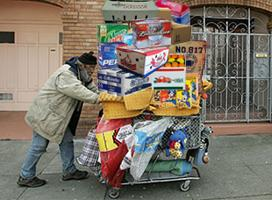person: (12, 48, 103, 187)
